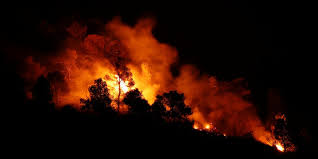fire: (187, 115, 301, 159), (72, 62, 167, 111)
